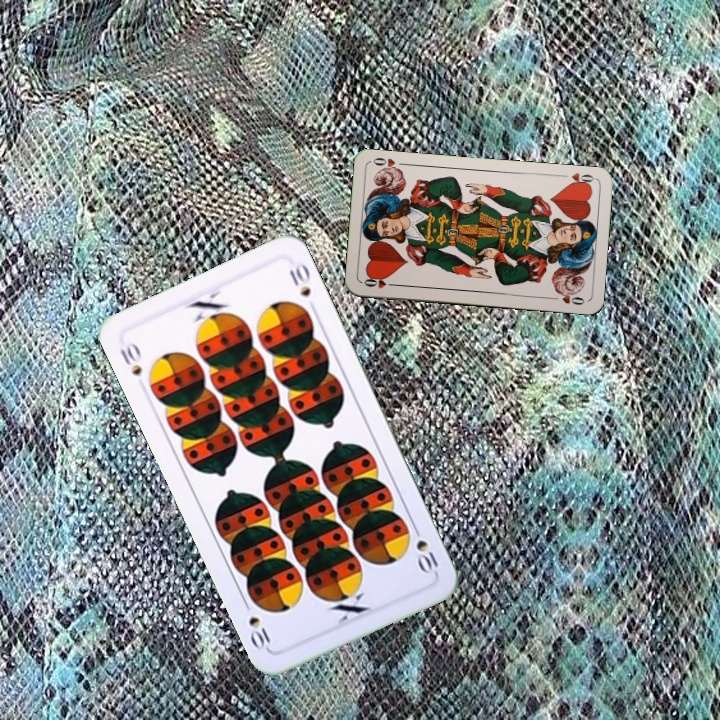HO: (557, 169, 596, 189), (360, 273, 400, 291)
S10: (408, 520, 441, 577), (116, 338, 145, 379)
